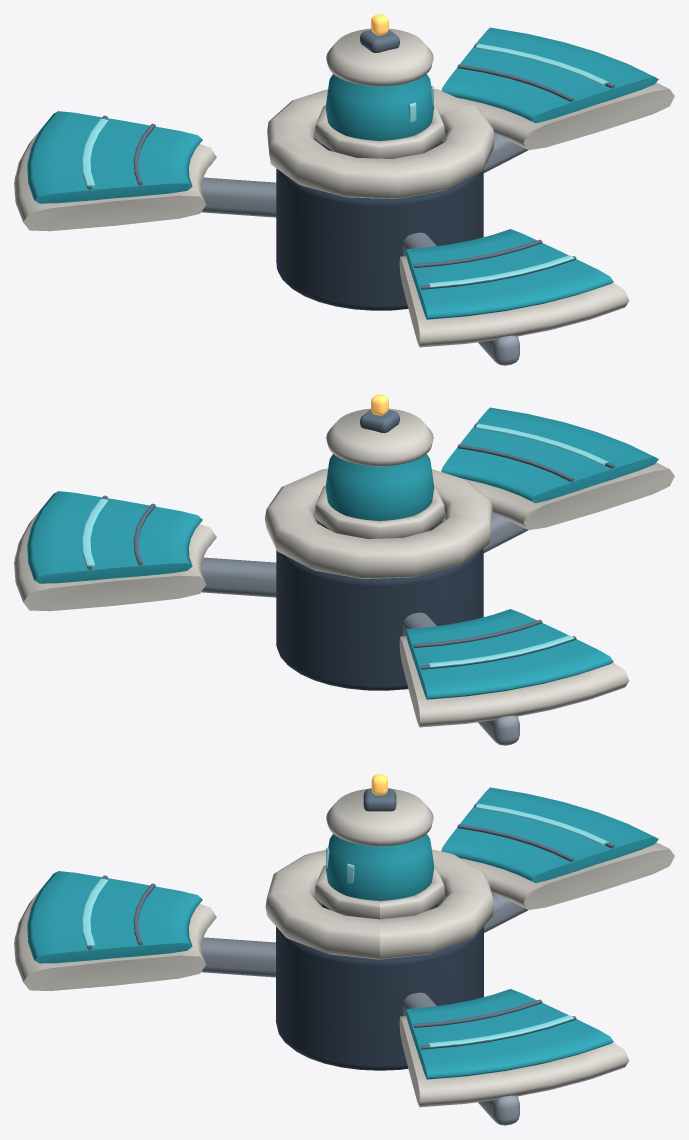
File: stellar_energy_array_lv1.glb
3 views of the same model, one above another, from view 1: azimuth 30°, elevation 25°; view 2: azimuth 150°, elevation 25°; view 3: azimuth 270°, elevation 25° (orthographic).
Parts seen in each view (by area): view 1: Structure; view 2: Structure; view 3: Structure.
Part boxes in pixels (<box>): Structure: <box>14,14,674,365</box>; Structure: <box>14,394,674,745</box>; Structure: <box>14,774,674,1125</box>.
Size of the model in its own units: 7.9 by 3.1 by 7.31.
